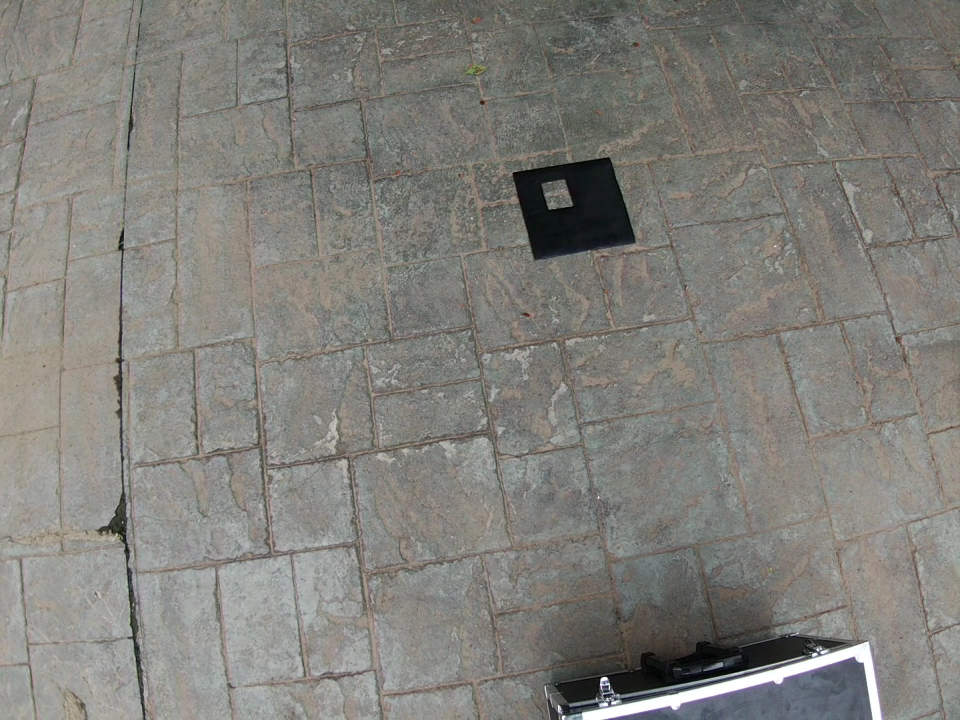qrcode: (513, 158, 636, 259)
